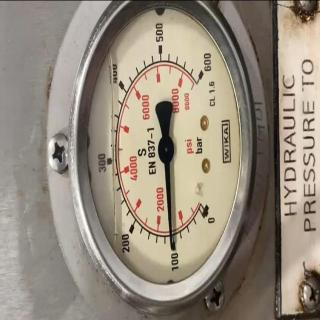gauge: (68, 1, 279, 319), (190, 58, 216, 87), (192, 195, 218, 220), (154, 136, 178, 163), (168, 237, 176, 251)
